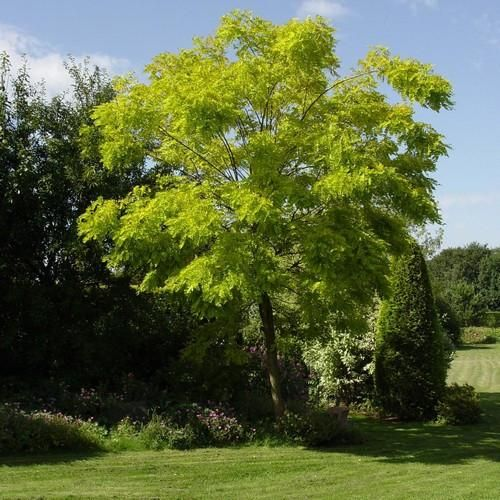tree: (75, 8, 456, 415)
